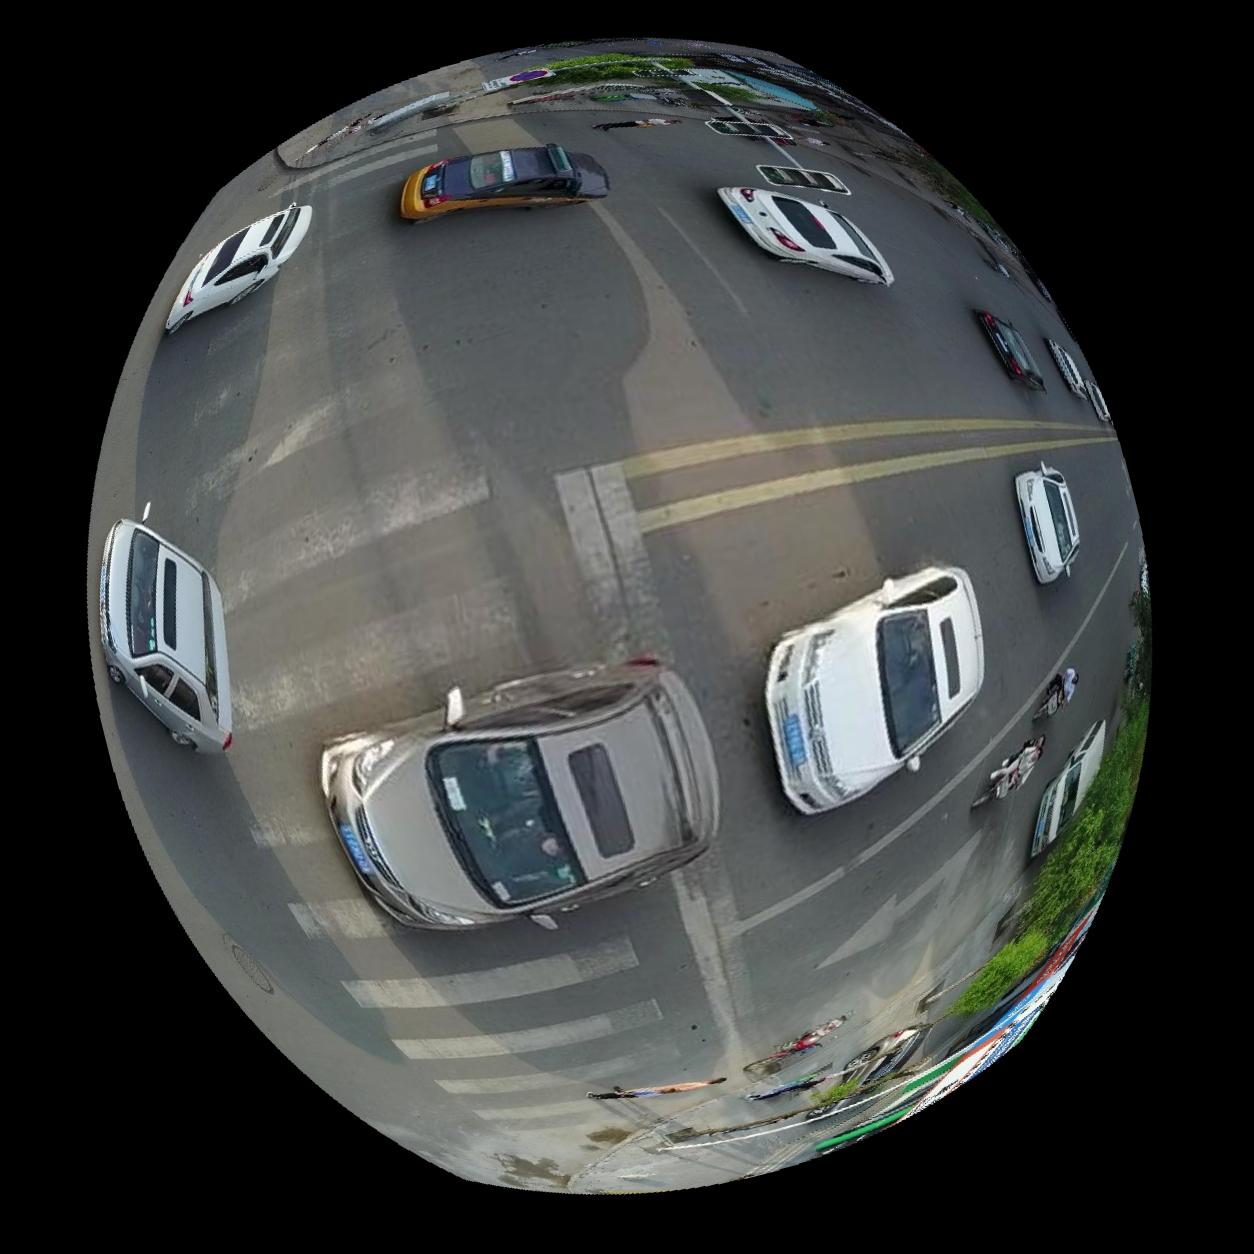cars: (319, 655, 718, 932), (764, 566, 984, 816), (96, 518, 228, 754), (163, 203, 309, 332), (717, 185, 894, 284), (397, 142, 608, 220), (1031, 719, 1107, 859), (1015, 461, 1081, 584), (976, 310, 1046, 391), (1046, 339, 1088, 397), (1085, 380, 1111, 423)
trees: (949, 593, 1149, 1019)
